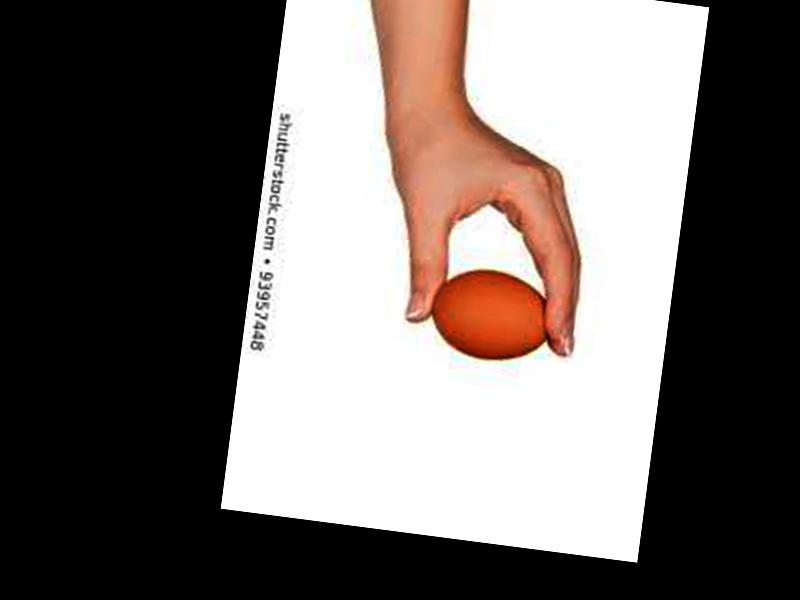Eggs: (425, 265, 561, 367)
